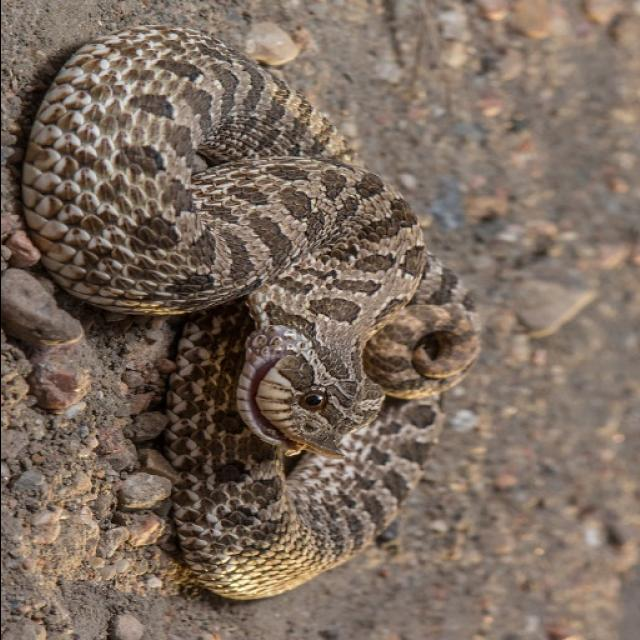snake: (4, 13, 490, 613)
